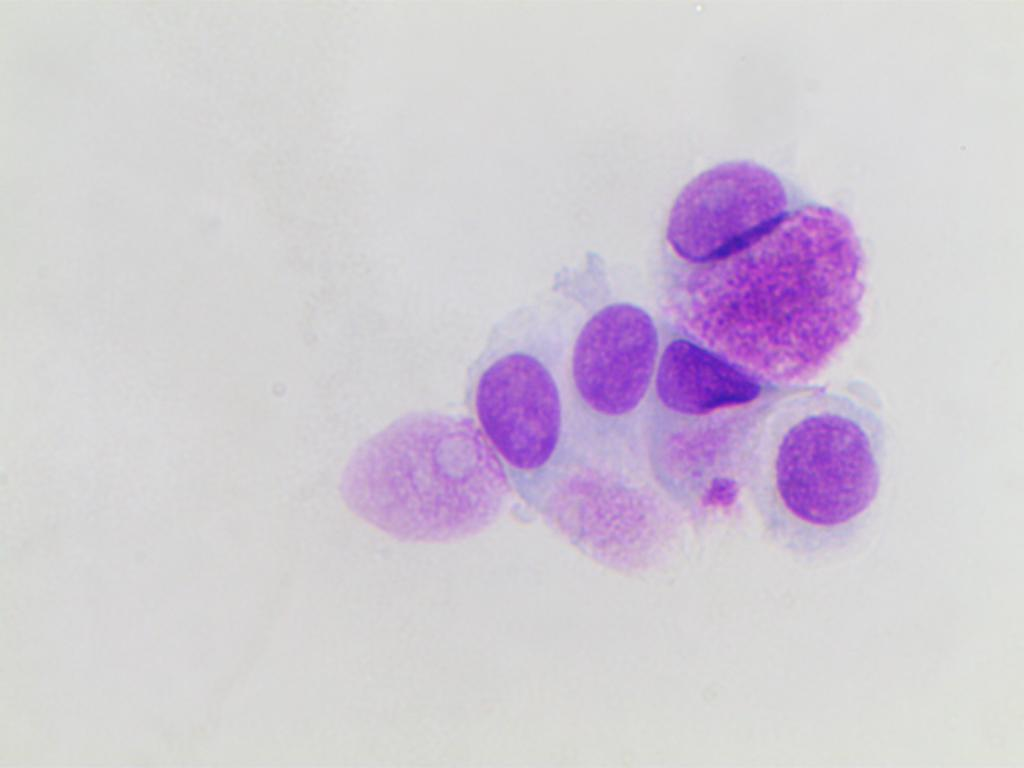epithelial: (751, 399, 903, 568), (471, 323, 568, 473), (553, 288, 655, 422)
goblet_cell: (653, 142, 882, 374), (648, 327, 768, 427)
